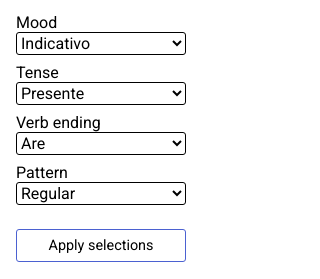
Test: form selects › display different tense options based on selected mood
Expected: the dropdown showing "presente" is shown, [16,82,186,105]
Select "Infinito" in the dropdown labelled "Mood" at (101, 44), box [16,32,186,55]
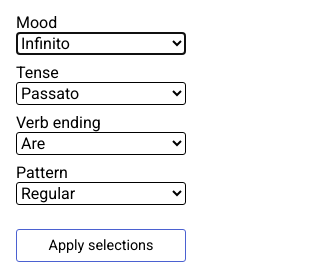
Expected: the field showing "presente" is not shown
Now the dropdown showing "passato" is shown, box [16,82,186,105]
